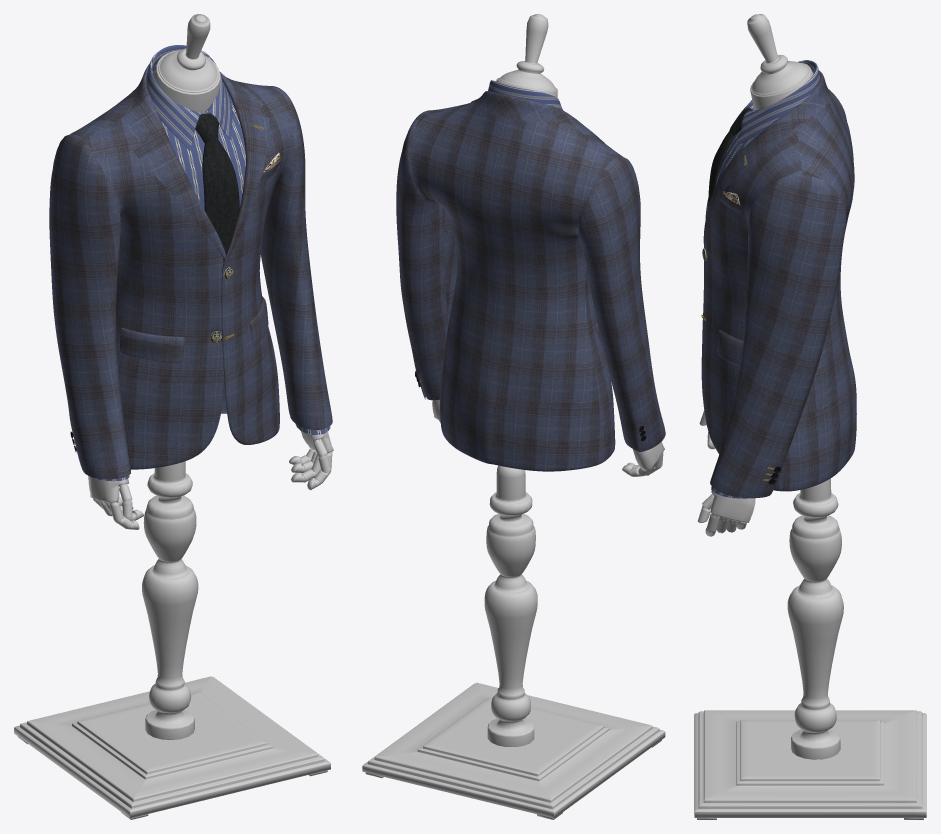
File: suit000.gltf
3 views of the same model, side by side, from view 1: azimuth 30°, elevation 25°; view 2: azimuth 150°, elevation 25°; view 3: azimuth 270°, elevation 25° (orthographic). The views are drawn at different scales.
Parts seen in each view (by area): view 1: waitao_low_14, Suit_yijia_2, lingzi_low_20, xizhuang13_Retopo_26, lingzi002_42, chenshan_low_16, koudai_right_low_30; view 2: waitao_low_14, Suit_yijia_2, lingzi_low_20, lingzi002_42; view 3: waitao_low_14, Suit_yijia_2, lingzi_low_20, lingzi002_42, xizhuang13_Retopo_26, koudai_left_low_28, chenshan_low_16.
Boxes of the visible parts, x1,y1,x2,y2 form: waitao_low_14: (49,80,332,479); Suit_yijia_2: (14,14,333,819); lingzi_low_20: (127,64,269,273); xizhuang13_Retopo_26: (195,113,239,261); lingzi002_42: (146,45,232,150); chenshan_low_16: (96,95,330,481); koudai_right_low_30: (119,328,184,362); waitao_low_14: (396,101,665,471); Suit_yijia_2: (362,14,665,819); lingzi_low_20: (470,91,604,142); lingzi002_42: (488,80,563,110); waitao_low_14: (701,89,856,498); Suit_yijia_2: (694,14,926,819); lingzi_low_20: (703,70,830,245); lingzi002_42: (736,60,820,146); xizhuang13_Retopo_26: (708,108,751,208); koudai_left_low_28: (717,330,743,366); chenshan_low_16: (711,110,759,498).
Size of the model in its own units: 0.8431 by 2.5 by 0.694.
